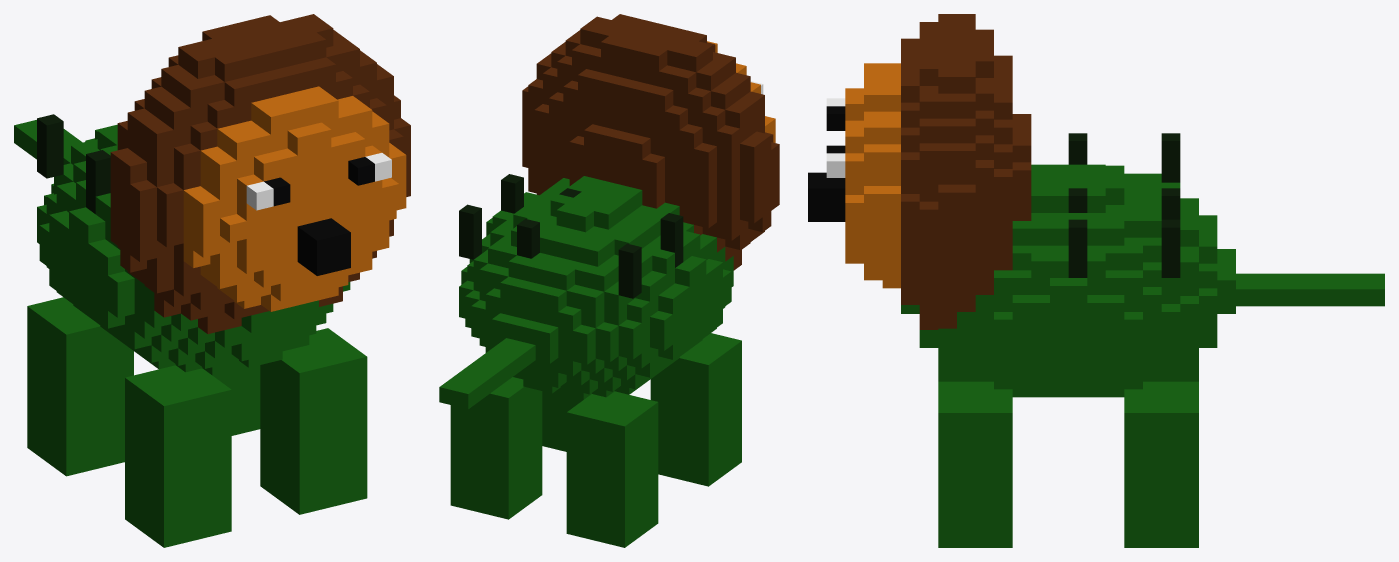
File: lionel_cactuseli.glb
The picture shows the model from 3 angles, left to right: view 1: azimuth 30°, elevation 25°; view 2: azimuth 150°, elevation 25°; view 3: azimuth 270°, elevation 25°; orthographic projection. The views are drawn at different scales.
Visible parts, largest first — view 1: brainrot; view 2: brainrot; view 3: brainrot.
Part boxes in pixels (bbox=[...]): brainrot: bbox=[14, 14, 410, 547]; brainrot: bbox=[439, 14, 779, 547]; brainrot: bbox=[808, 14, 1384, 547].
Bounding box in the file's own units: 2.96 × 5 × 5.74.
Materials: 1 (1 with a texture image).
